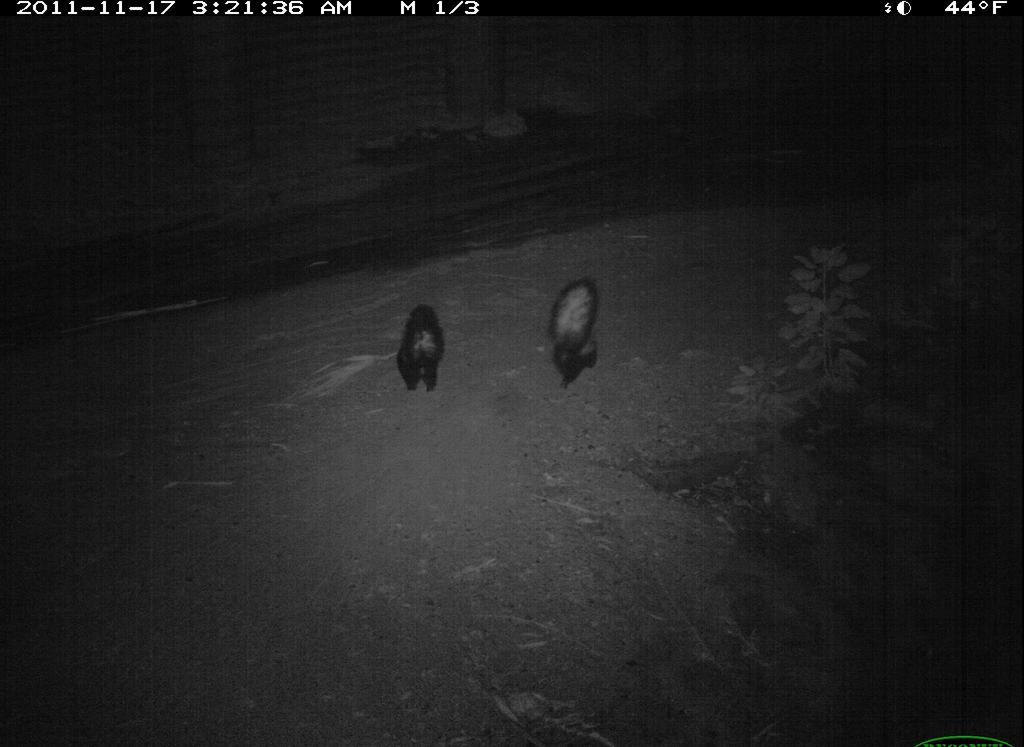skunk: (528, 269, 616, 395), (395, 297, 452, 399)
